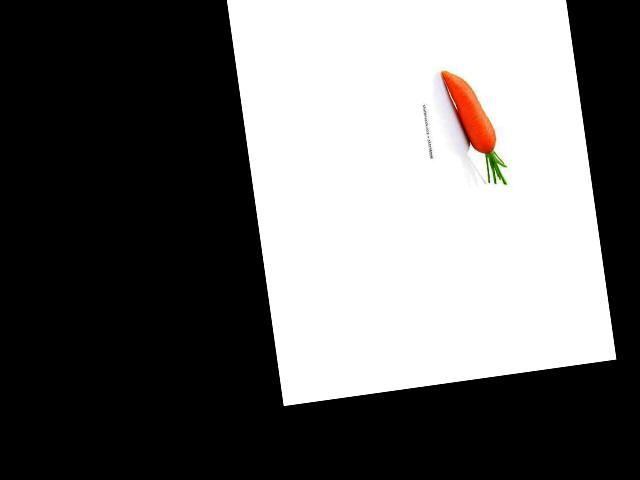carrot: (439, 61, 501, 160)
